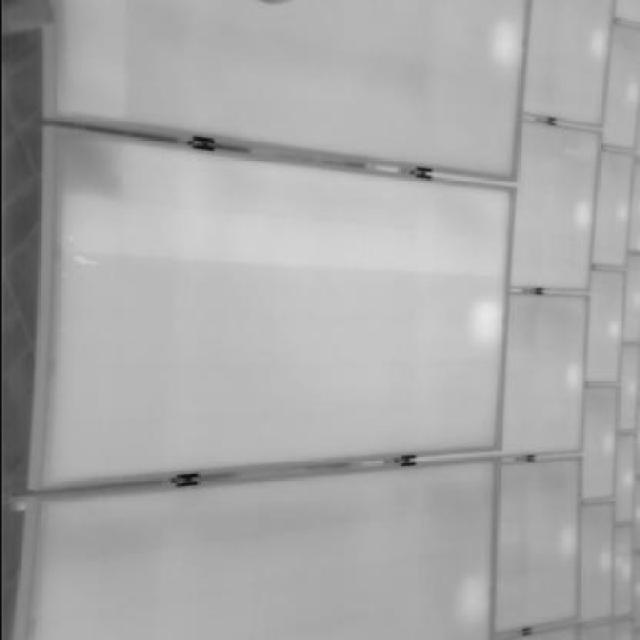hotspot: (464, 298, 501, 347), (486, 17, 520, 66), (455, 574, 488, 618), (562, 363, 582, 403), (569, 201, 593, 233), (556, 526, 575, 559), (592, 29, 605, 57)
